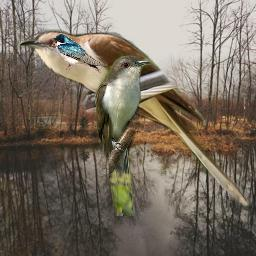Cuckoo: (17, 29, 254, 211), (96, 50, 151, 216)
Swallow: (51, 33, 108, 73)
